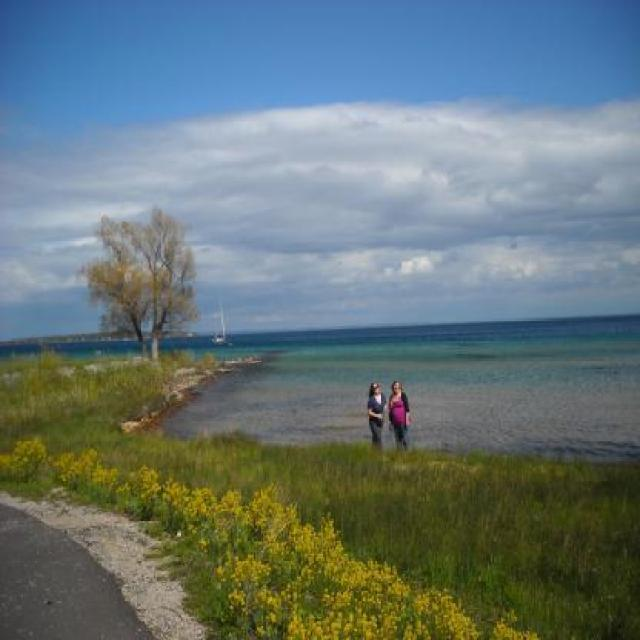Person: (386, 376, 414, 455), (366, 382, 388, 449)
